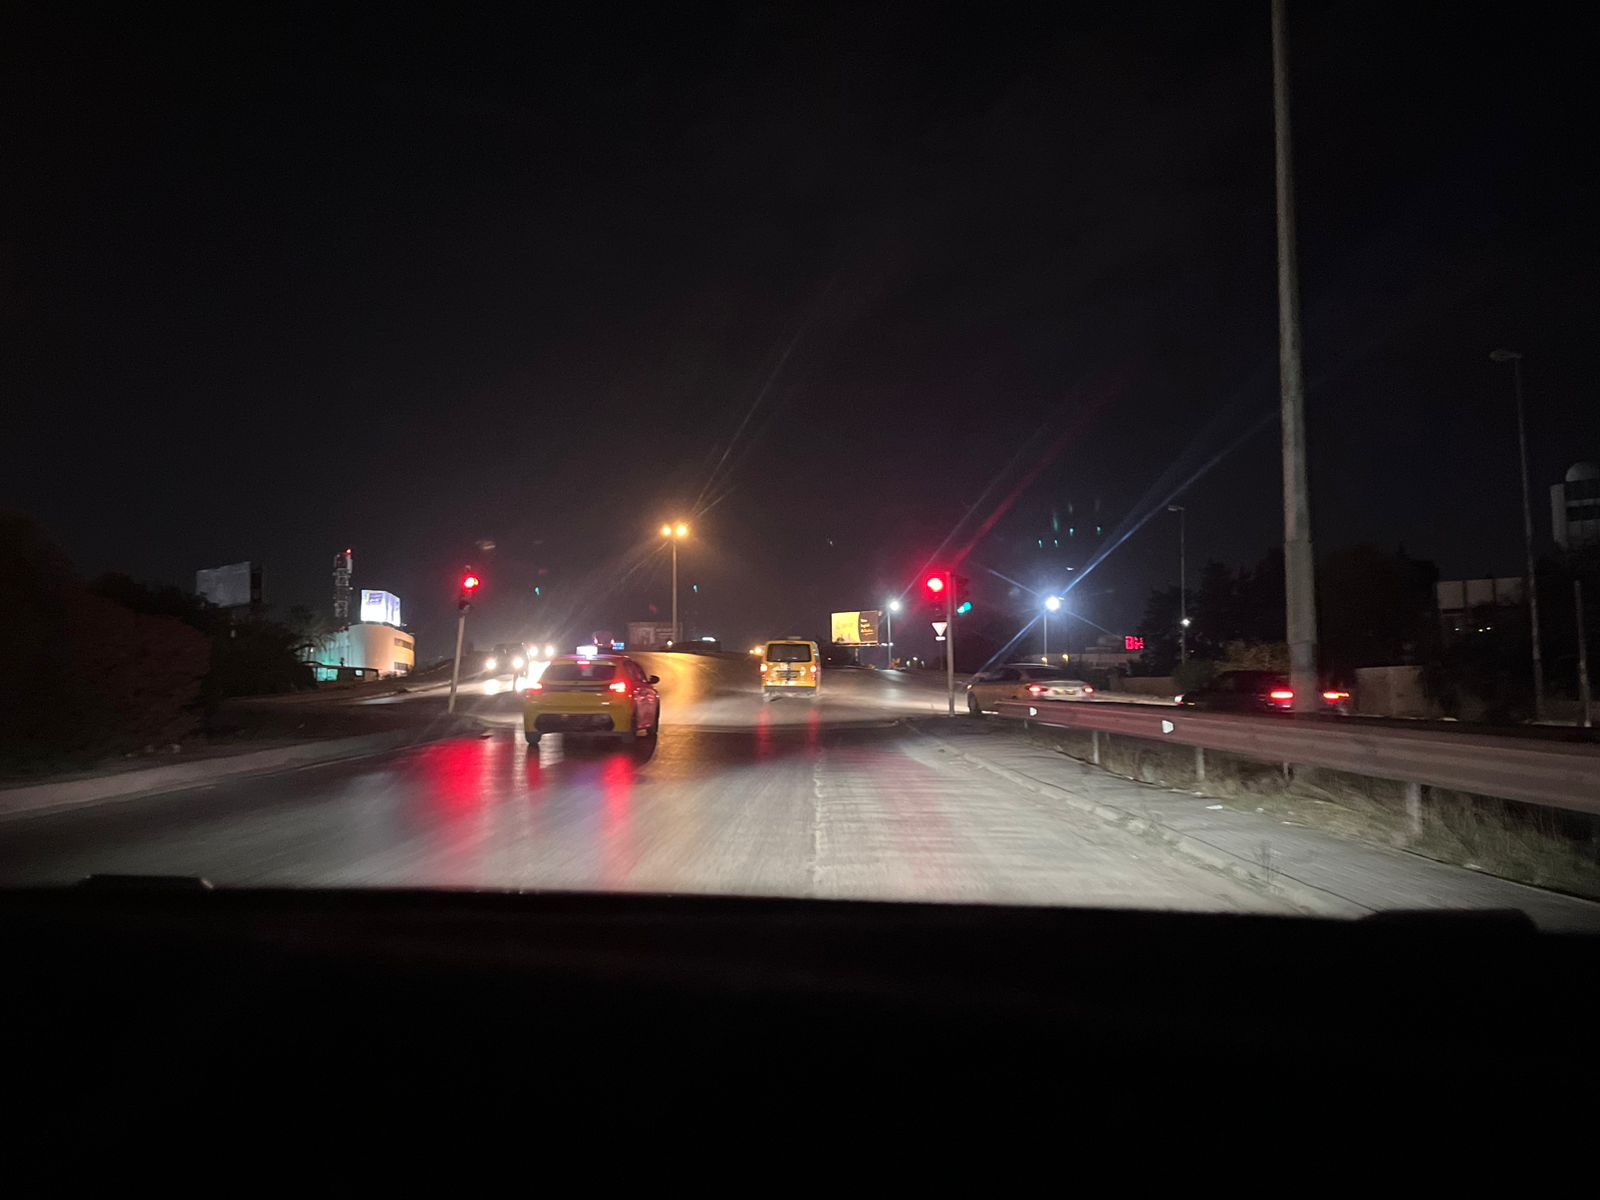RedLight: (457, 574, 479, 621), (926, 575, 947, 618)
